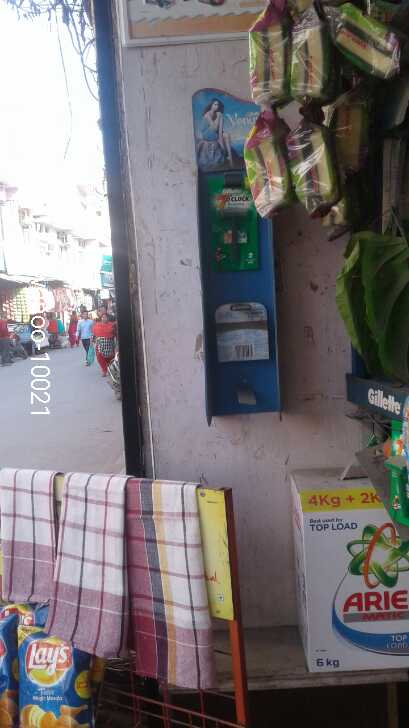ariel: (291, 481, 409, 676)
